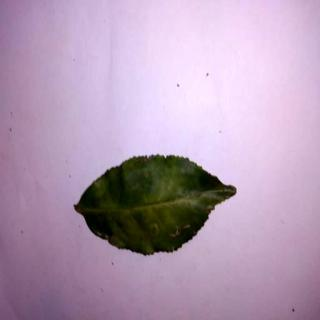Bird Eye Spot: (73, 157, 238, 258)
